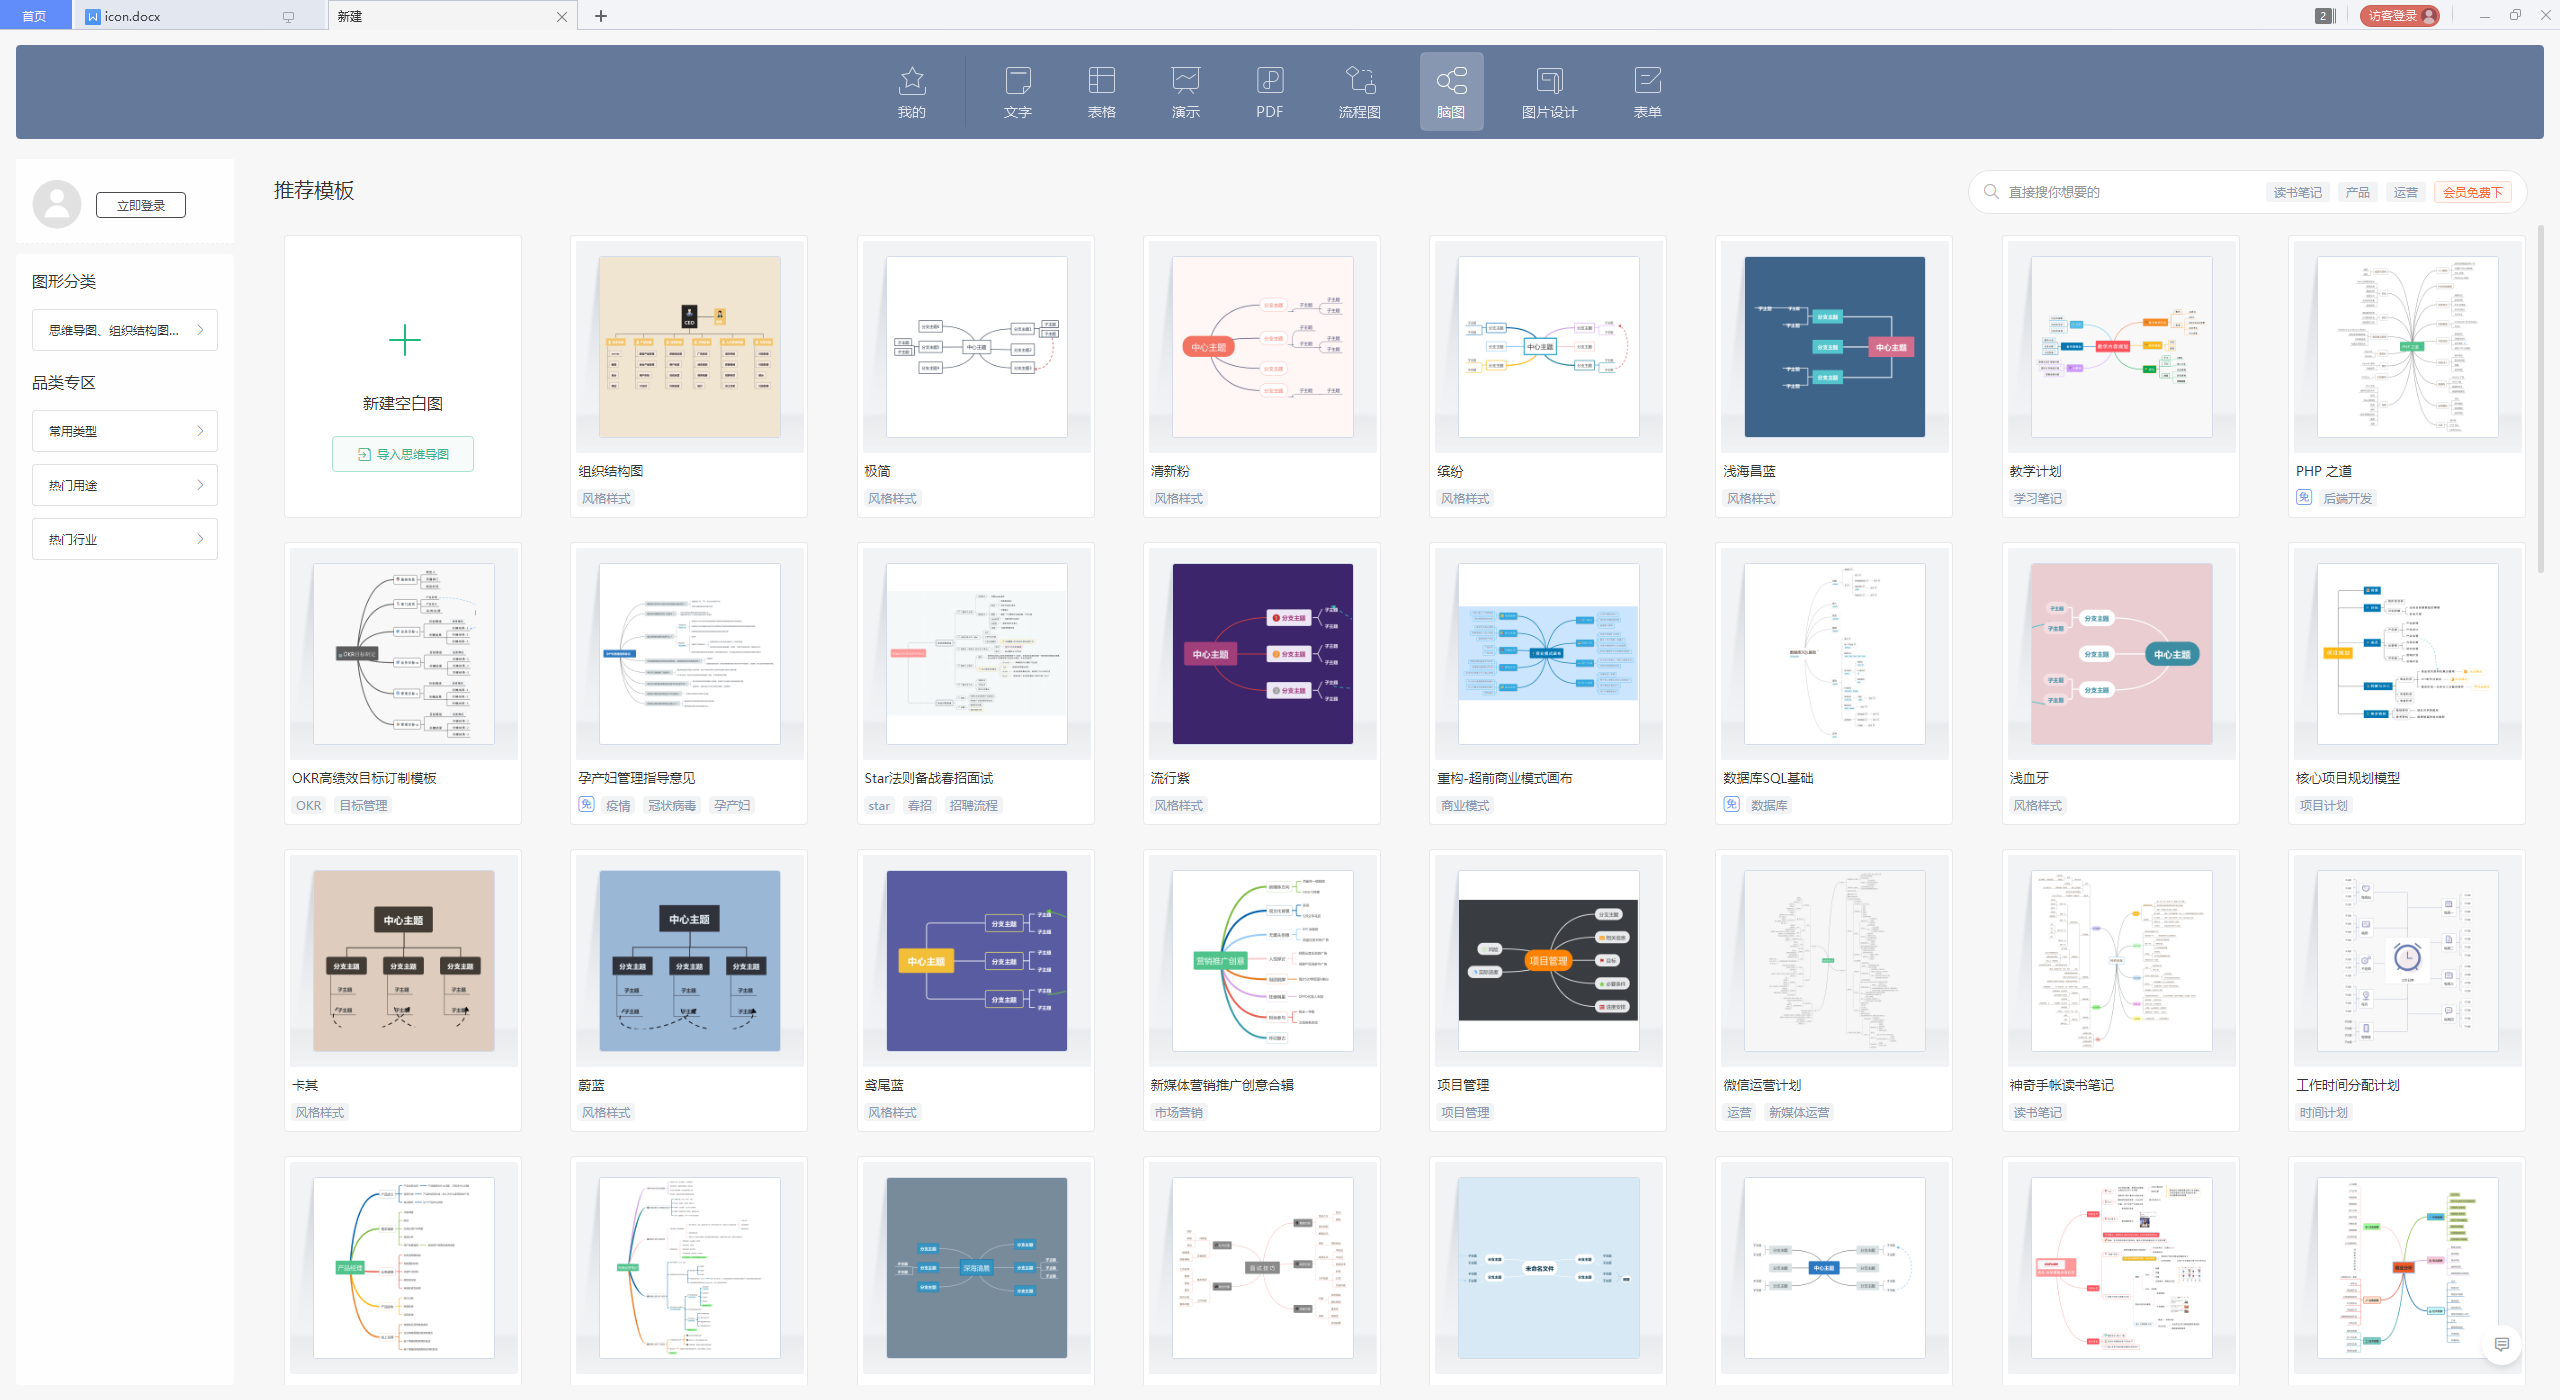character: (1429, 769, 1583, 786), (862, 769, 998, 788), (1152, 1078, 1300, 1095), (286, 769, 443, 784), (41, 321, 178, 338), (2295, 766, 2407, 786), (2003, 1076, 2120, 1095), (272, 178, 357, 203), (579, 767, 702, 784), (1717, 767, 1815, 788), (2288, 1076, 2405, 1093), (2012, 183, 2103, 203), (1722, 1072, 1807, 1093), (360, 397, 446, 416), (33, 372, 103, 395), (41, 421, 107, 445), (43, 524, 102, 550), (378, 447, 453, 466), (103, 5, 172, 26), (45, 472, 102, 497), (2000, 457, 2065, 478), (578, 1102, 640, 1122), (2439, 183, 2501, 203), (31, 272, 98, 291), (1767, 1103, 1834, 1122), (2289, 460, 2360, 478), (2296, 1102, 2355, 1122), (1520, 103, 1584, 122), (2262, 183, 2327, 200), (1434, 797, 1500, 814), (576, 462, 648, 478), (1434, 1076, 1493, 1095), (1153, 795, 1207, 816), (114, 195, 171, 214), (945, 795, 996, 816), (1722, 464, 1781, 481), (338, 797, 396, 814), (293, 1103, 352, 1121), (643, 797, 702, 814), (2296, 798, 2355, 816), (1150, 767, 1195, 790), (576, 491, 640, 507), (1439, 490, 1491, 509), (2365, 5, 2415, 24), (2015, 488, 2069, 505), (2012, 797, 2065, 814), (2326, 490, 2374, 509), (867, 490, 919, 507), (1722, 491, 1779, 507), (1152, 491, 1207, 507), (1152, 1105, 1207, 1121), (1438, 1105, 1493, 1121), (867, 1105, 921, 1121), (12, 5, 55, 24), (576, 1076, 614, 1097), (286, 1076, 326, 1095), (709, 797, 752, 814), (859, 1078, 912, 1091), (1150, 464, 1196, 479), (334, 7, 376, 24), (2008, 1105, 2065, 1117), (1339, 103, 1379, 121), (1431, 103, 1470, 121), (1629, 103, 1669, 121), (2003, 771, 2051, 784), (1750, 798, 1788, 816), (1252, 103, 1288, 121), (860, 462, 896, 479), (895, 105, 931, 121), (2341, 184, 2377, 200), (998, 105, 1033, 121), (1434, 462, 1465, 479), (864, 795, 895, 812), (2389, 183, 2420, 200), (907, 797, 936, 814), (291, 798, 322, 814), (1724, 1105, 1757, 1119), (1088, 105, 1114, 121), (1172, 105, 1200, 119), (605, 798, 629, 814)
icon: (1146, 547, 1381, 760), (1427, 1164, 1665, 1371), (2003, 553, 2245, 753), (1433, 852, 1660, 1064), (2007, 853, 2236, 1062), (853, 1162, 1090, 1360), (1153, 853, 1379, 1059), (1150, 1160, 1377, 1364), (576, 860, 803, 1062), (864, 859, 1100, 1048), (2301, 859, 2524, 1059), (2008, 245, 2220, 443), (1726, 1174, 1943, 1367), (1729, 855, 1945, 1048), (1739, 247, 1936, 452), (1726, 548, 1934, 741), (860, 252, 1083, 433), (579, 252, 795, 436), (1155, 248, 1371, 433), (1438, 557, 1646, 747), (1433, 250, 1645, 436), (305, 559, 515, 745), (295, 867, 505, 1053), (579, 1176, 791, 1359), (2307, 1172, 2512, 1359), (865, 559, 1077, 738), (2301, 560, 2515, 736), (2032, 1171, 2226, 1362), (2296, 252, 2501, 431), (588, 560, 786, 743), (309, 1174, 490, 1362), (29, 181, 83, 229), (386, 322, 422, 357), (1434, 64, 1469, 97), (1002, 66, 1034, 97), (896, 66, 927, 97), (1171, 66, 1202, 97), (1345, 66, 1377, 95), (1086, 66, 1115, 95), (1255, 66, 1284, 95), (1633, 66, 1662, 95), (1534, 67, 1564, 95), (2491, 1333, 2513, 1355), (1981, 179, 2001, 200), (2419, 5, 2439, 26), (2313, 5, 2336, 24), (576, 795, 596, 814), (1720, 795, 1741, 814), (2295, 488, 2313, 505), (2507, 5, 2524, 22), (2538, 5, 2555, 22), (84, 9, 102, 24), (591, 7, 609, 22), (2476, 9, 2493, 24), (191, 476, 209, 491), (553, 9, 571, 22), (191, 422, 209, 436), (191, 531, 209, 545), (191, 322, 207, 336), (357, 447, 371, 462), (1267, 647, 1281, 660), (281, 10, 295, 22)
